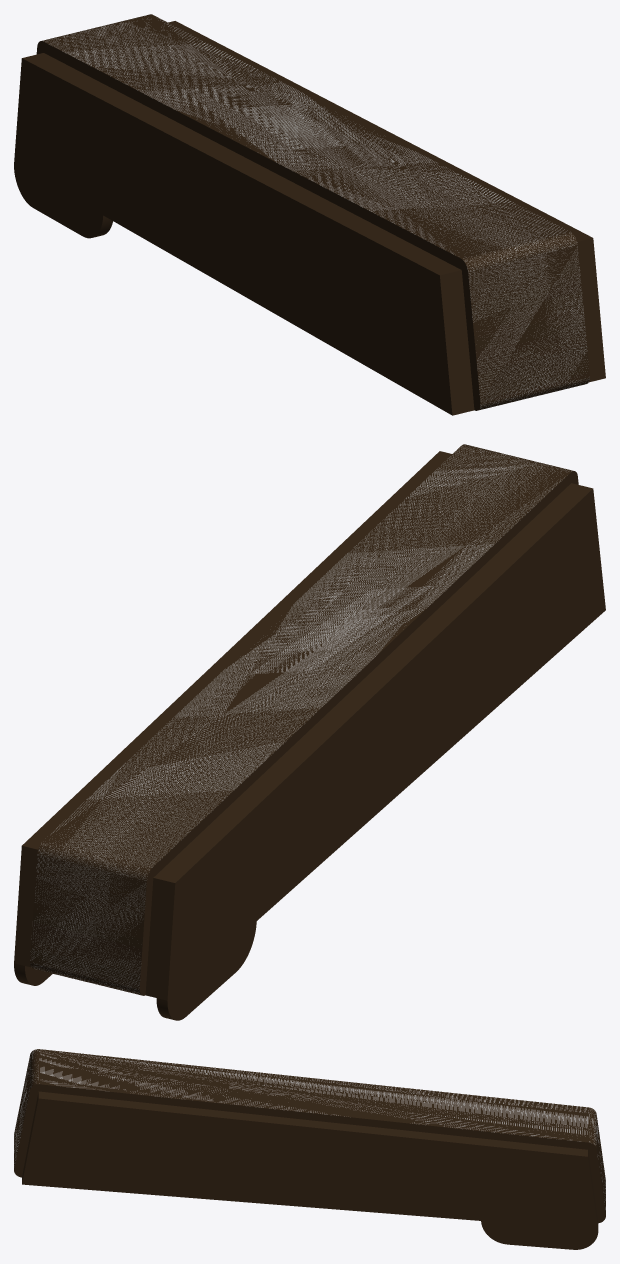
File: original-37.obj
3 renders of one model, top to bottom at view 1: azimuth 30°, elevation 25°; view 2: azimuth 150°, elevation 25°; view 3: azimuth 270°, elevation 25°, orthographic. The views are drawn at different scales.
Visible parts, largest first — view 1: Group12/mesh192/mesh192-geometry#mesh192-geometry; view 2: Group12/mesh192/mesh192-geometry#mesh192-geometry; view 3: Group12/mesh192/mesh192-geometry#mesh192-geometry.
Boxes of the visible parts, x1=… form: Group12/mesh192/mesh192-geometry#mesh192-geometry: x1=14, y1=14, x2=605, y2=415; Group12/mesh192/mesh192-geometry#mesh192-geometry: x1=14, y1=444, x2=605, y2=1020; Group12/mesh192/mesh192-geometry#mesh192-geometry: x1=14, y1=1049, x2=605, y2=1249.
Size of the model in its own units: 0.3321 by 0.4992 by 1.69.
